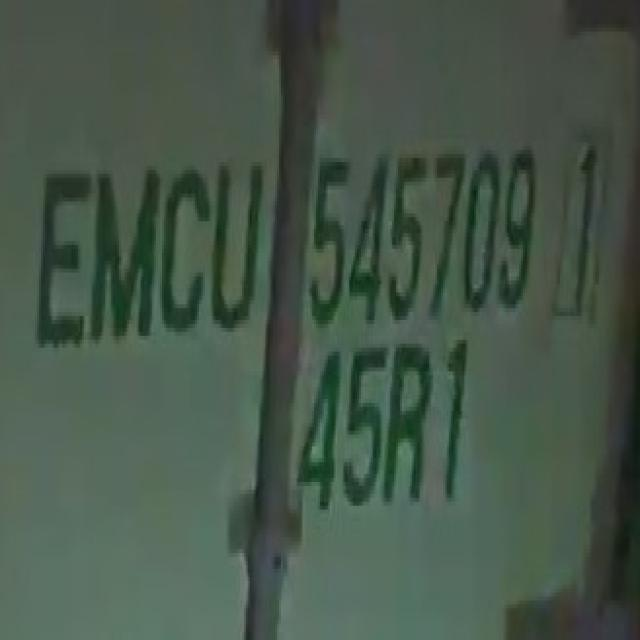dv: (548, 116, 615, 323)
owner: (31, 144, 264, 356)
serial: (305, 136, 541, 320)
size: (288, 336, 478, 523)
